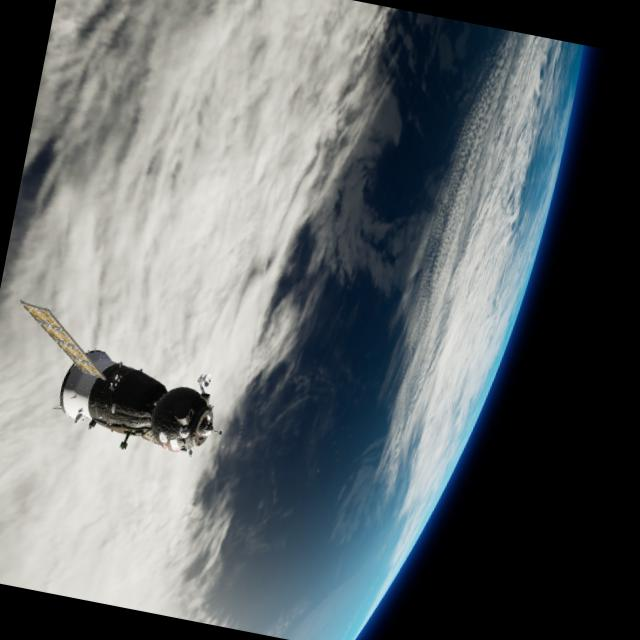Satellites revolving around earth: (0, 294, 242, 471)
